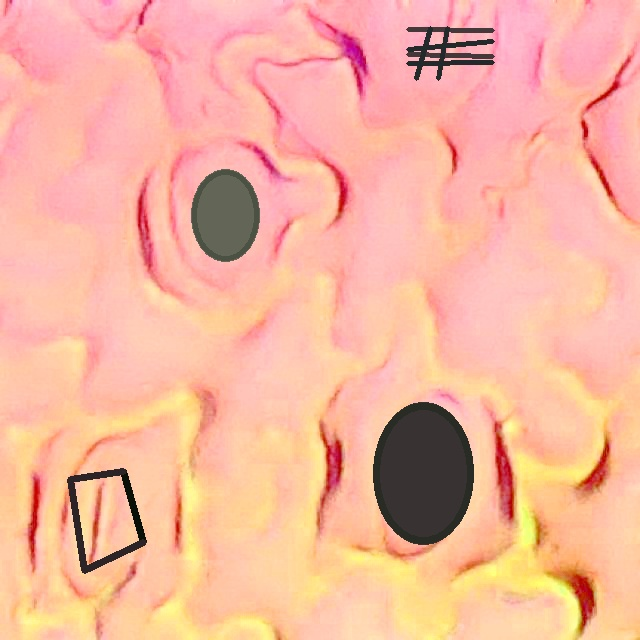close: (67, 468, 146, 573), (191, 169, 259, 261), (406, 27, 493, 80)
open: (373, 402, 472, 544)
